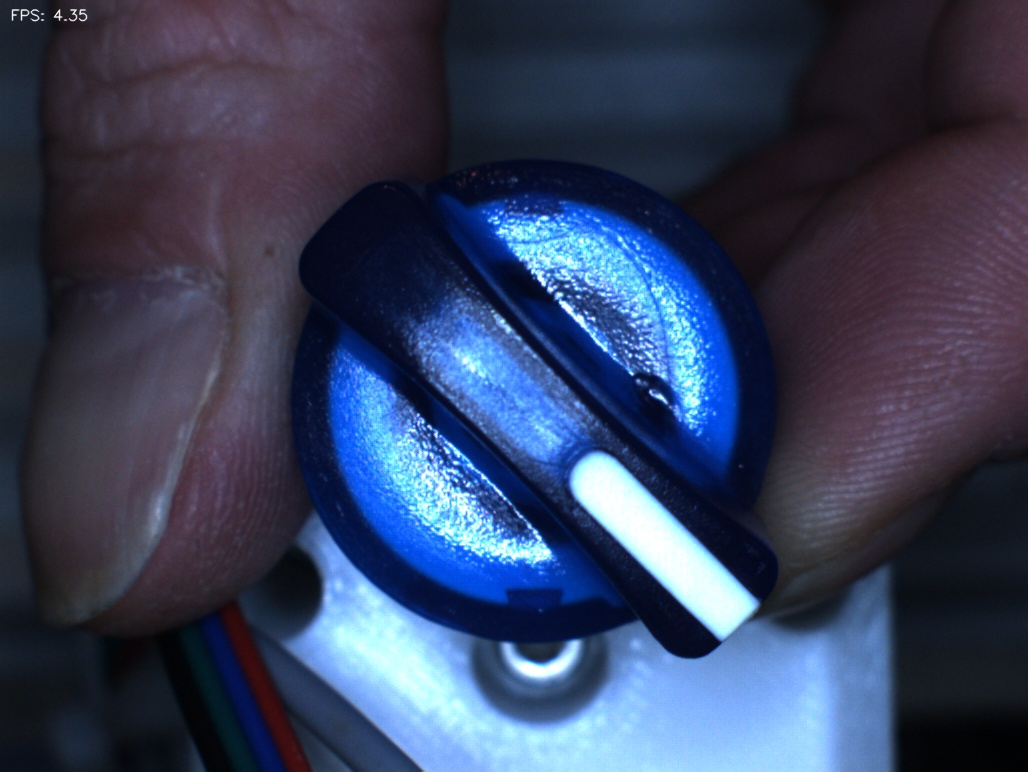Choc: (614, 351, 709, 446)
